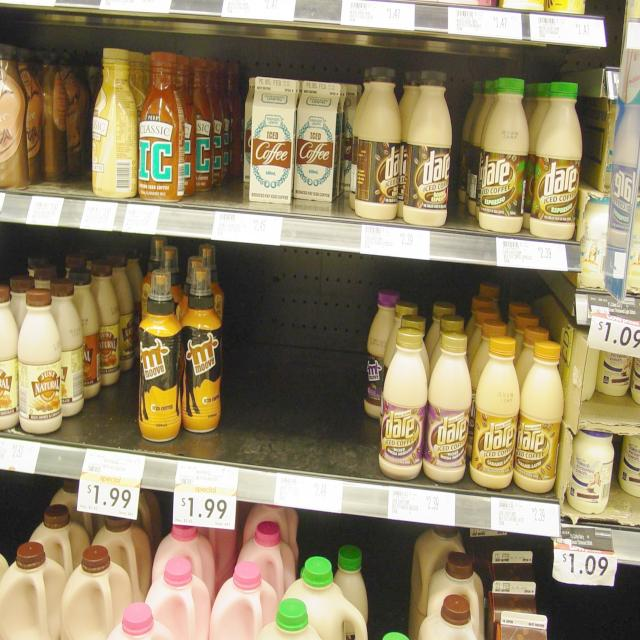empty_space: (229, 267, 362, 461), (60, 51, 94, 186), (213, 64, 244, 196)
